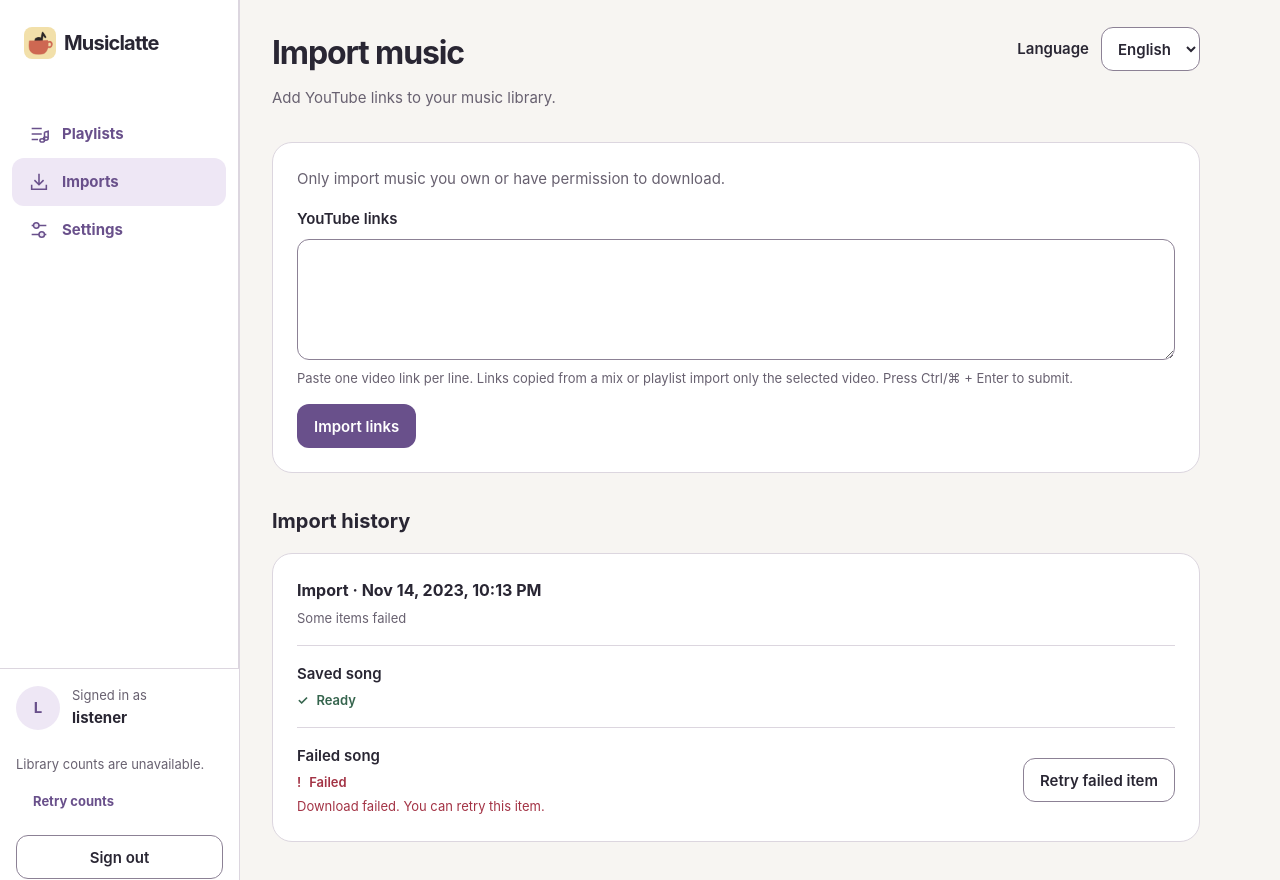
imports route and durable job UI › should retain successes, link a retry child and distinguish cancel requested from cancelled
The width and height of the screenshot is (1280, 880).
Expected: the text "Saved song" is shown, [297, 662, 382, 686]
Click the button with aria-label "Retry Failed song". click: (1099, 780)
box: [1023, 758, 1175, 802]
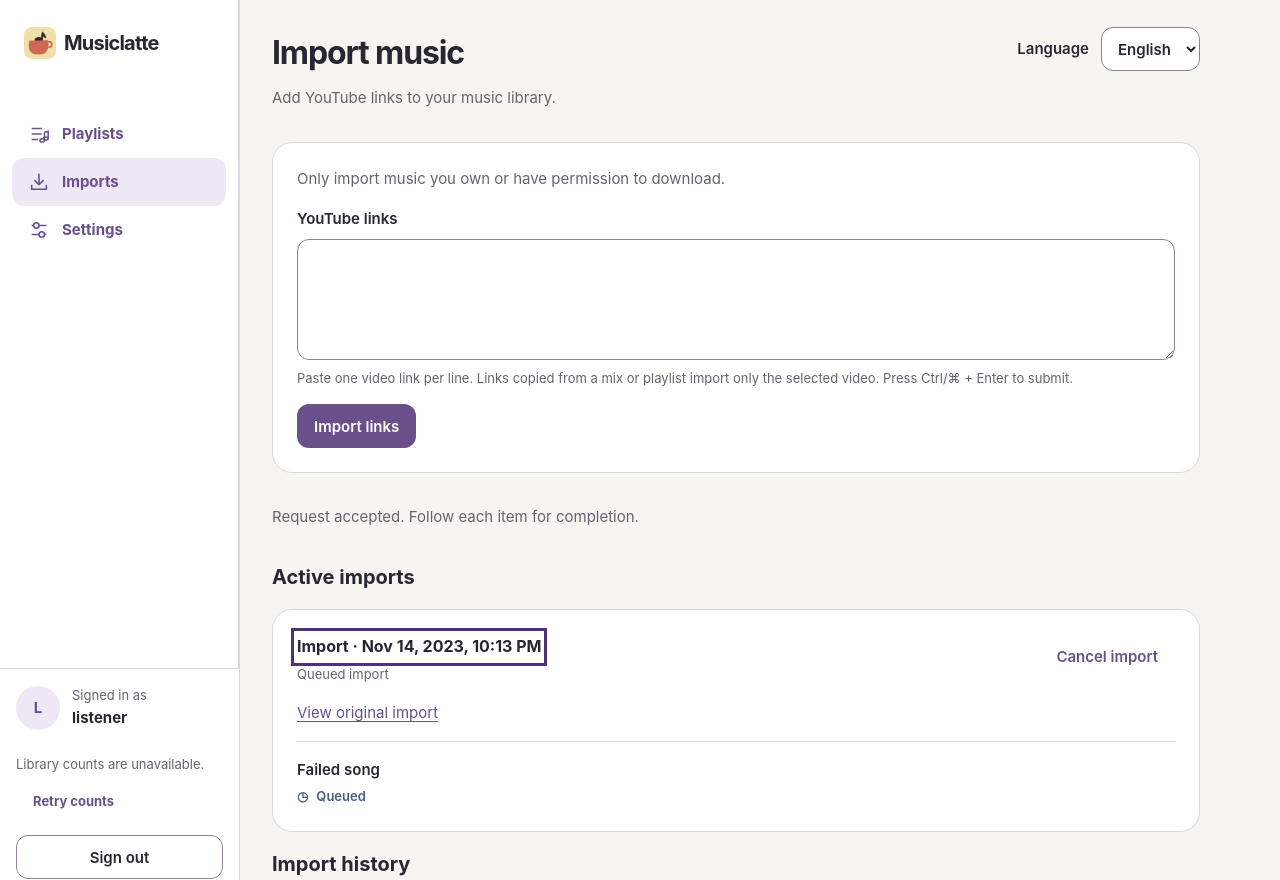
Expected: the text "Queued" is shown, [316, 786, 366, 807]
Click the button "Cancel import". click: (1107, 656)
box: [1039, 634, 1175, 678]
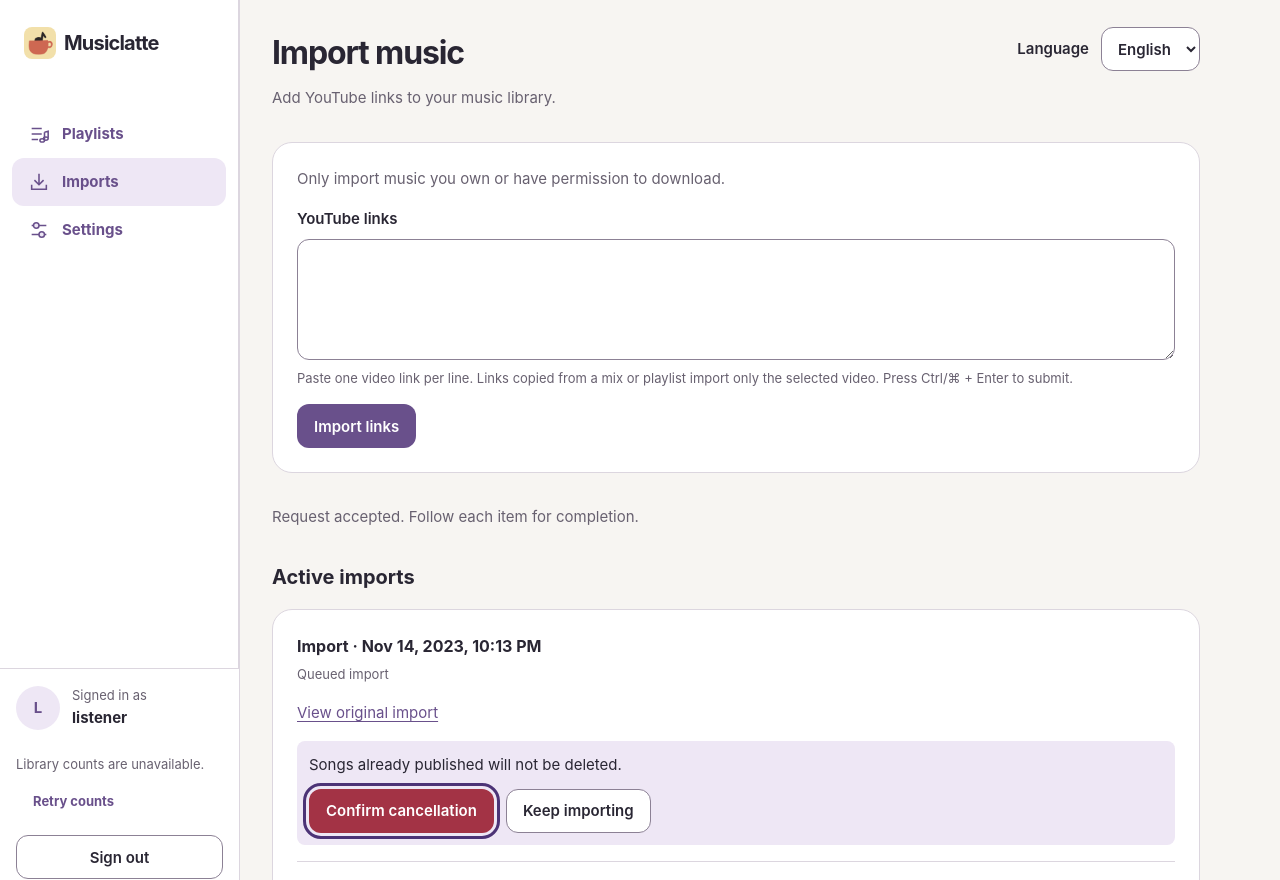
Expected: the text "Songs already published will not be deleted." is shown, [309, 755, 622, 774]
Click the button "Confirm cancellation". click: (401, 811)
box: [309, 789, 494, 833]
(page scrolled)
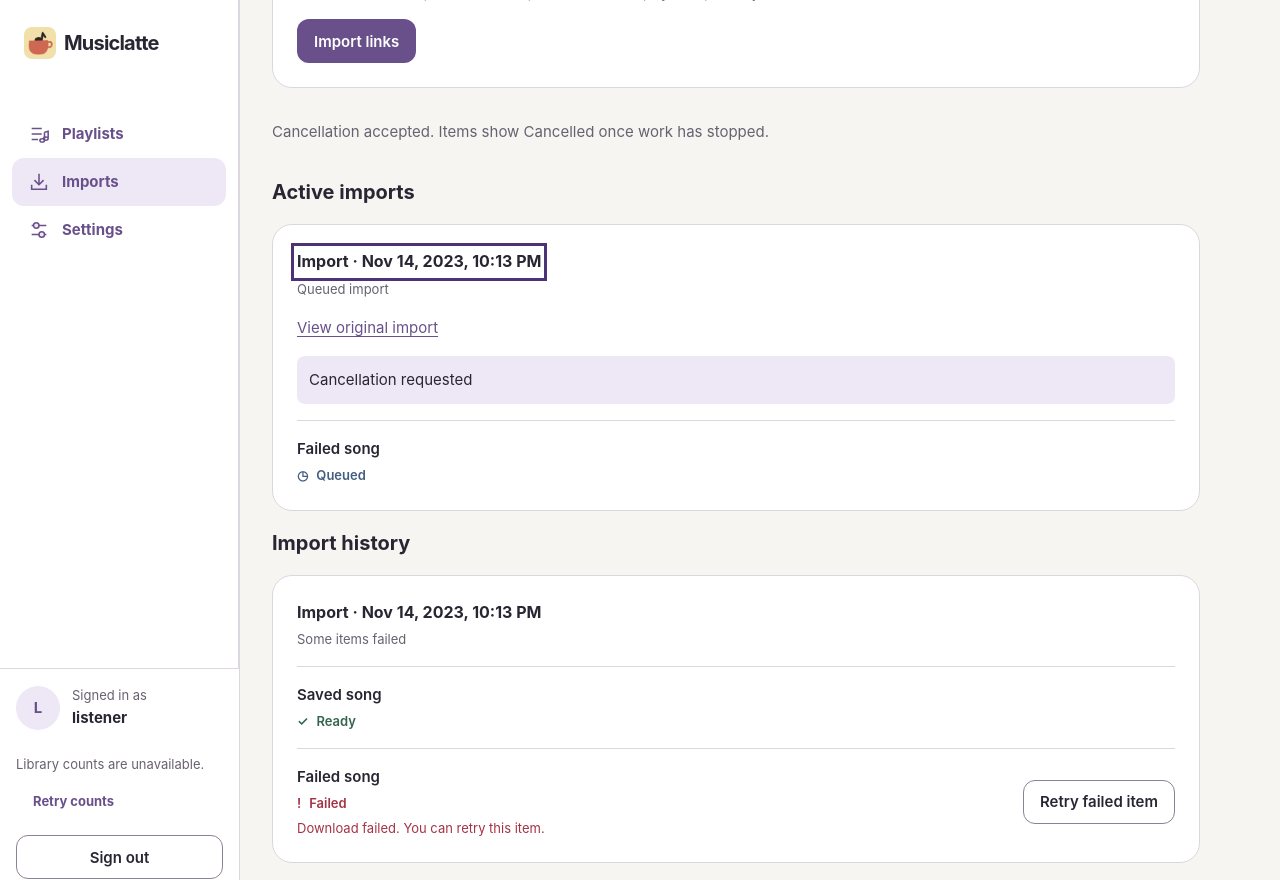
Expected: the text "Saved song" is shown, [297, 683, 382, 707]
Expected: the text "Cancellation requested" is shown, [297, 356, 1175, 404]
